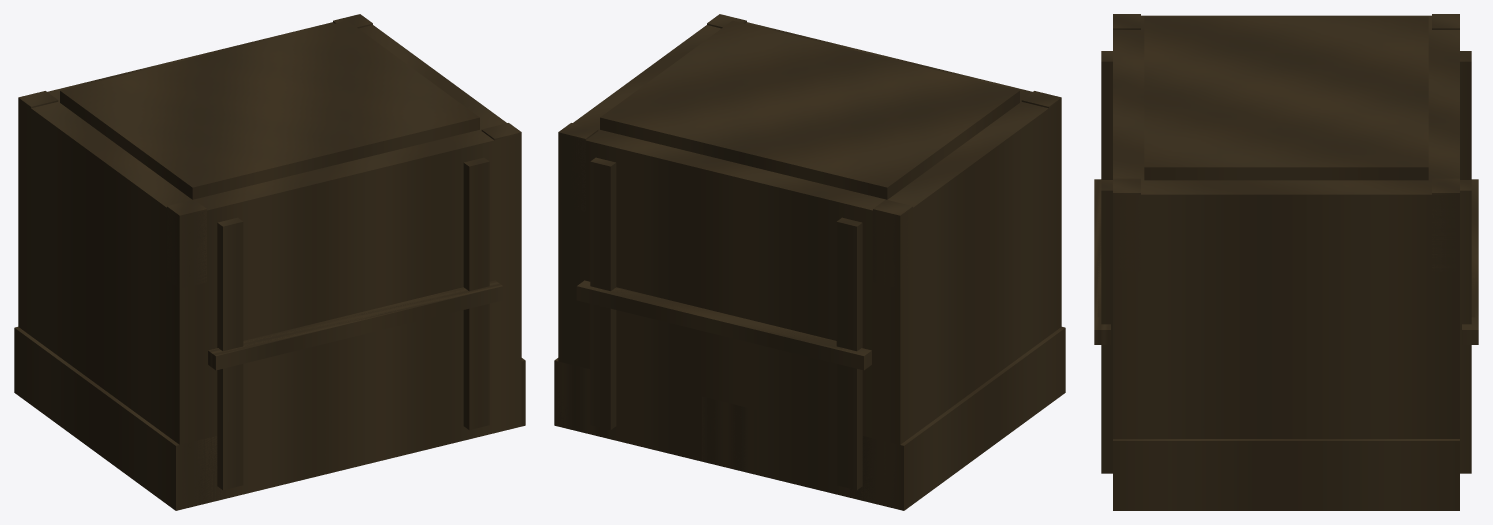
File: prop_pallet_jack_a.glb
3 renders of one model, left to right at view 1: azimuth 30°, elevation 25°; view 2: azimuth 150°, elevation 25°; view 3: azimuth 270°, elevation 25°, orthographic. The views are drawn at different scales.
Parts seen in each view (by area): view 1: prop_pallet_jack_a; view 2: prop_pallet_jack_a; view 3: prop_pallet_jack_a.
Part boxes in pixels (<box>): prop_pallet_jack_a: <box>14,14,525,510</box>; prop_pallet_jack_a: <box>554,14,1065,510</box>; prop_pallet_jack_a: <box>1094,14,1478,510</box>.
Bounding box in the file's own units: 0.9 × 0.75 × 0.7982.
Materials: 1 (1 with a texture image).
